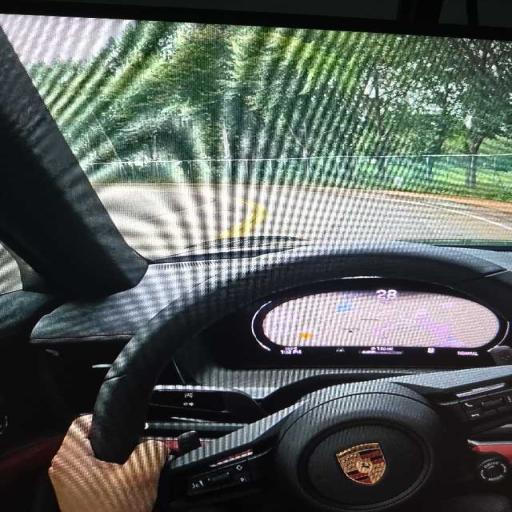car: (0, 7, 511, 511)
lane: (95, 185, 511, 258)
person: (49, 416, 169, 511)
